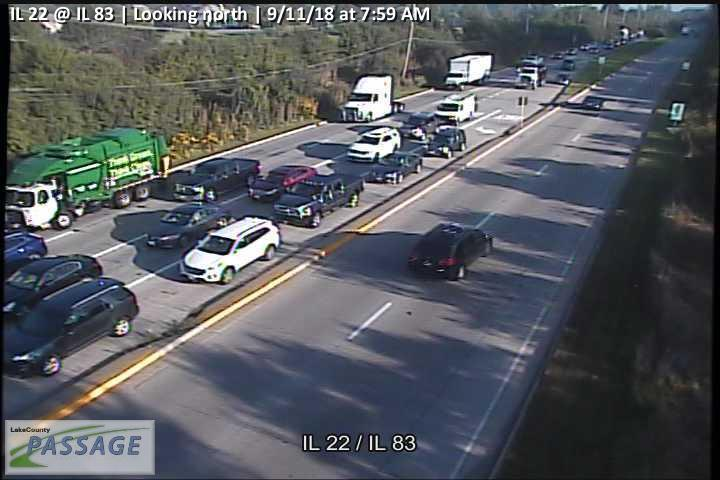SUV: (1, 273, 140, 378), (348, 126, 401, 163), (435, 92, 476, 119)
Sedan: (1, 255, 104, 325), (177, 218, 281, 283), (273, 172, 365, 229), (408, 222, 494, 281), (144, 202, 232, 252), (170, 156, 260, 200), (248, 165, 320, 203), (362, 152, 425, 184), (422, 125, 468, 160), (582, 95, 606, 110)
Truck: (3, 124, 172, 231), (337, 73, 406, 124), (442, 54, 494, 90), (512, 63, 549, 91)
